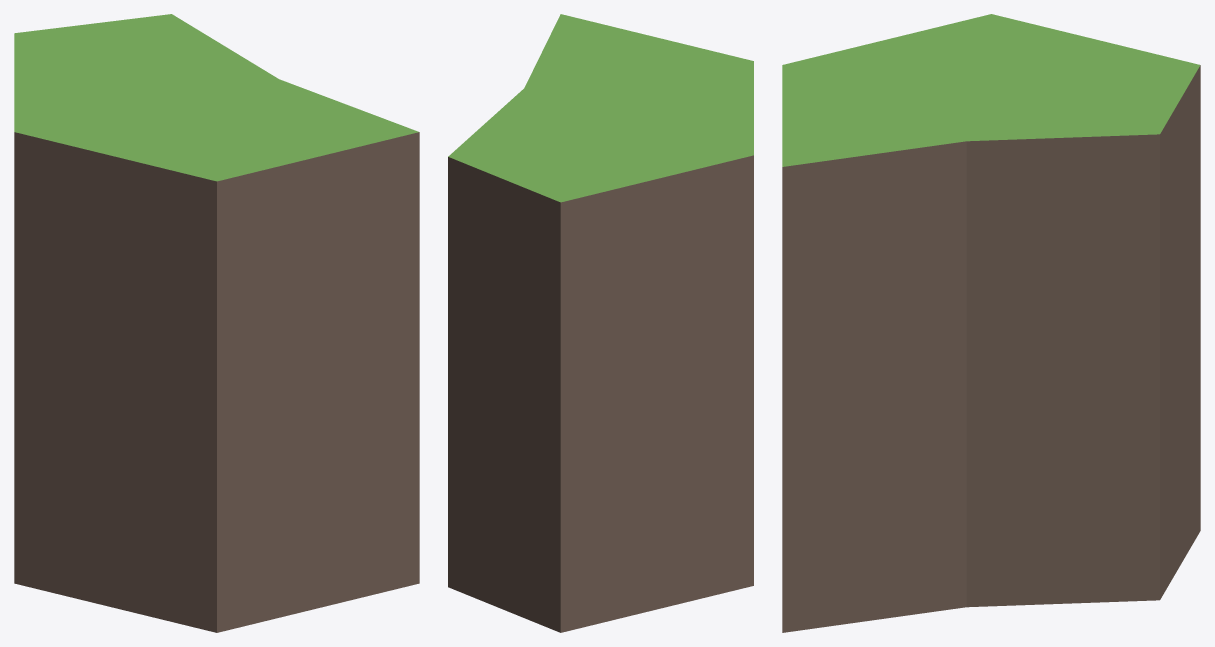
File: Cliff02.fbx
3 renders of one model, left to right at view 1: azimuth 30°, elevation 25°; view 2: azimuth 150°, elevation 25°; view 3: azimuth 270°, elevation 25°, orthographic. The views are drawn at different scales.
Visible parts, largest first — view 1: Cliff1; view 2: Cliff1; view 3: Cliff1.
Part boxes in pixels (box(x1,y1,x2,y2)): Cliff1: box(14, 14, 419, 632); Cliff1: box(448, 14, 753, 632); Cliff1: box(782, 14, 1200, 632).
Bounding box in the file's own units: 0.6736 × 0.9564 × 0.7778.
